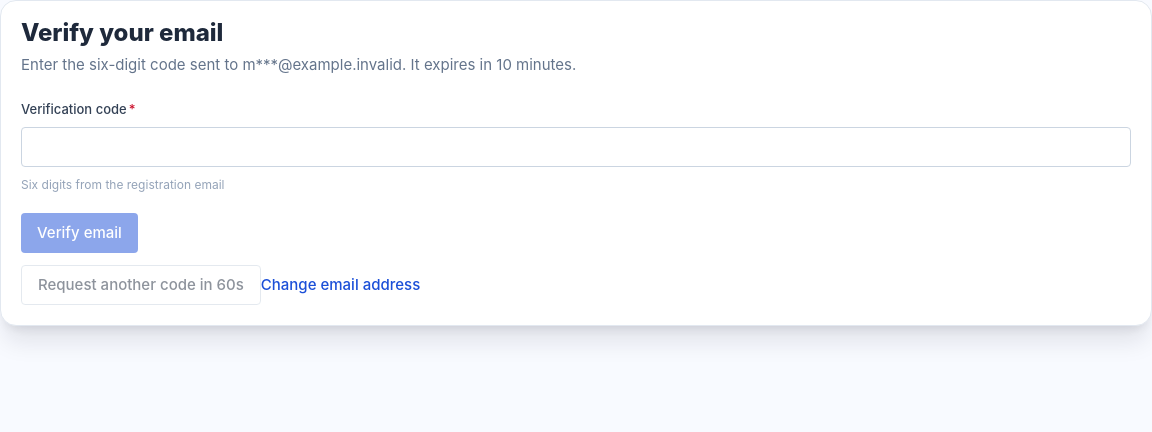
Test: registration email verification › shows the normalized expired-code response and keeps recovery available
Type "123456" into the field labelled "Verification code*" at (576, 147), box x1=21 y1=127 x2=1131 y2=167
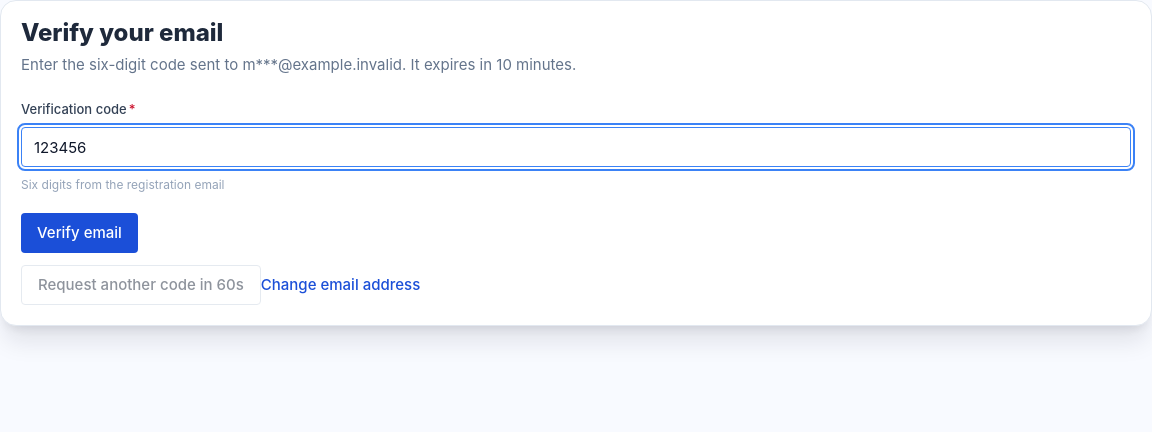
Click the button "Verify email" at (79, 233), box x1=21 y1=213 x2=138 y2=253
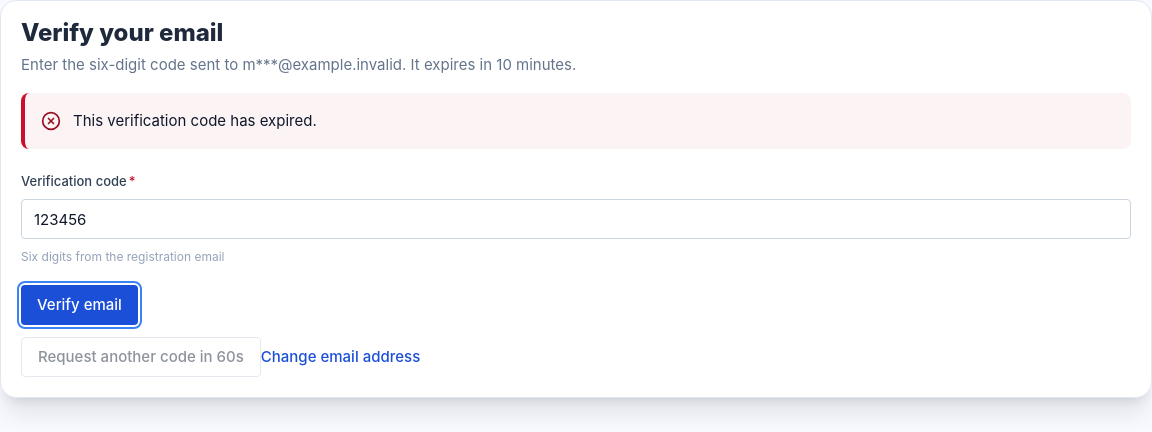
Expected: the button "Request another code in 60s" is disabled, x1=21 y1=337 x2=261 y2=377
Result: the message shows "expired" at x1=73 y1=111 x2=317 y2=130
